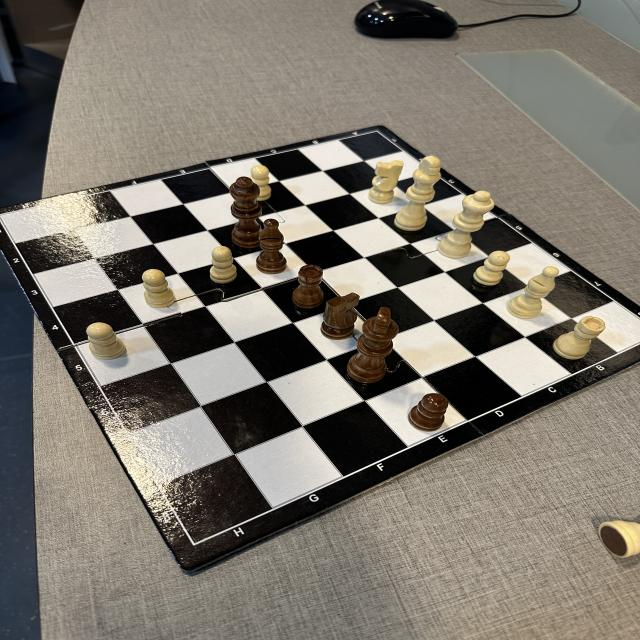Black-Bishop: (256, 218, 287, 274)
Black-King: (346, 307, 400, 384)
Black-Knight: (320, 292, 360, 340)
Black-Pawn: (408, 393, 450, 432)
Black-Queen: (228, 176, 262, 248)
Black-Rook: (292, 264, 324, 309)
White-Bishop: (506, 266, 559, 319)
White-King: (394, 156, 442, 232)
White-Knight: (368, 160, 403, 204)
White-Pawn: (86, 322, 126, 359), (472, 250, 510, 286), (142, 268, 176, 308), (209, 246, 238, 284), (250, 165, 270, 183)
White-Queen: (437, 190, 495, 259)
White-Rook: (552, 316, 606, 360)
